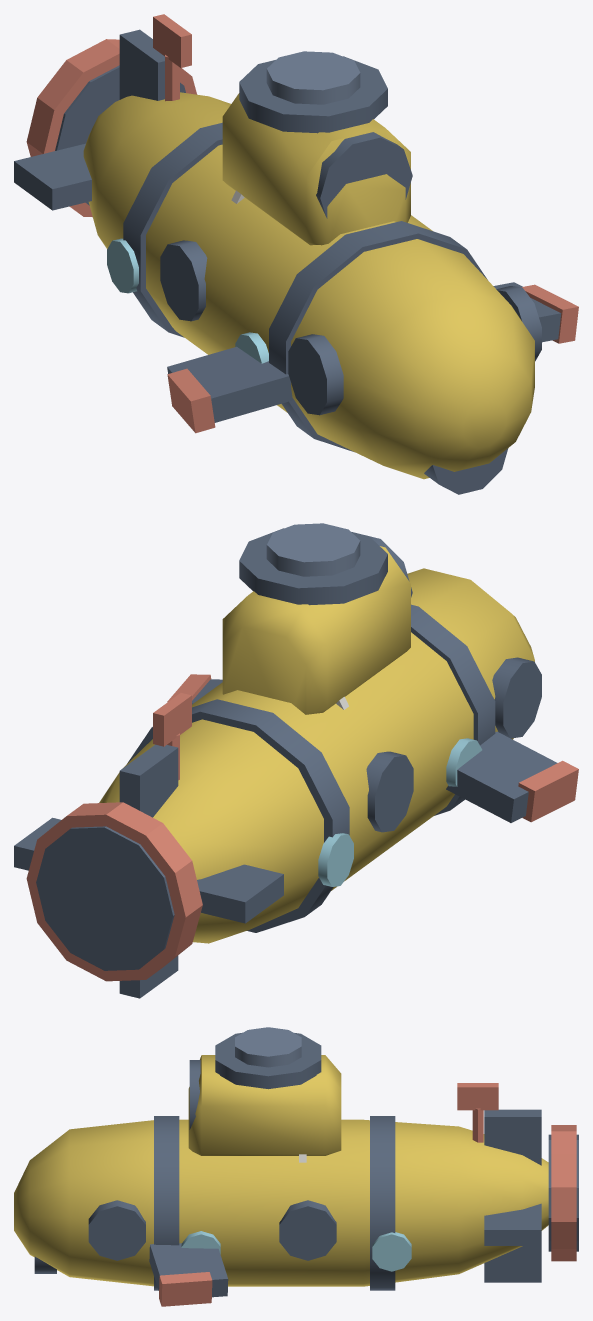
File: submarines_Bathtub.glb
3 renders of one model, top to bottom at view 1: azimuth 30°, elevation 25°; view 2: azimuth 150°, elevation 25°; view 3: azimuth 270°, elevation 25°, orthographic. The views are drawn at different scales.
Parts seen in each view (by area): view 1: Hull, Hull_Glow; view 2: Hull, Hull_Glow; view 3: Hull, Hull_Glow.
Boxes of the visible parts, box(x1,y1,x2,y2) form: Hull: box(14, 14, 578, 494); Hull_Glow: box(107, 238, 268, 363); Hull: box(14, 523, 578, 998); Hull_Glow: box(318, 738, 482, 886); Hull: box(14, 1027, 578, 1306); Hull_Glow: box(181, 1231, 411, 1271).
Bounding box in the file's own units: 20.96 × 16.56 × 35.55.
